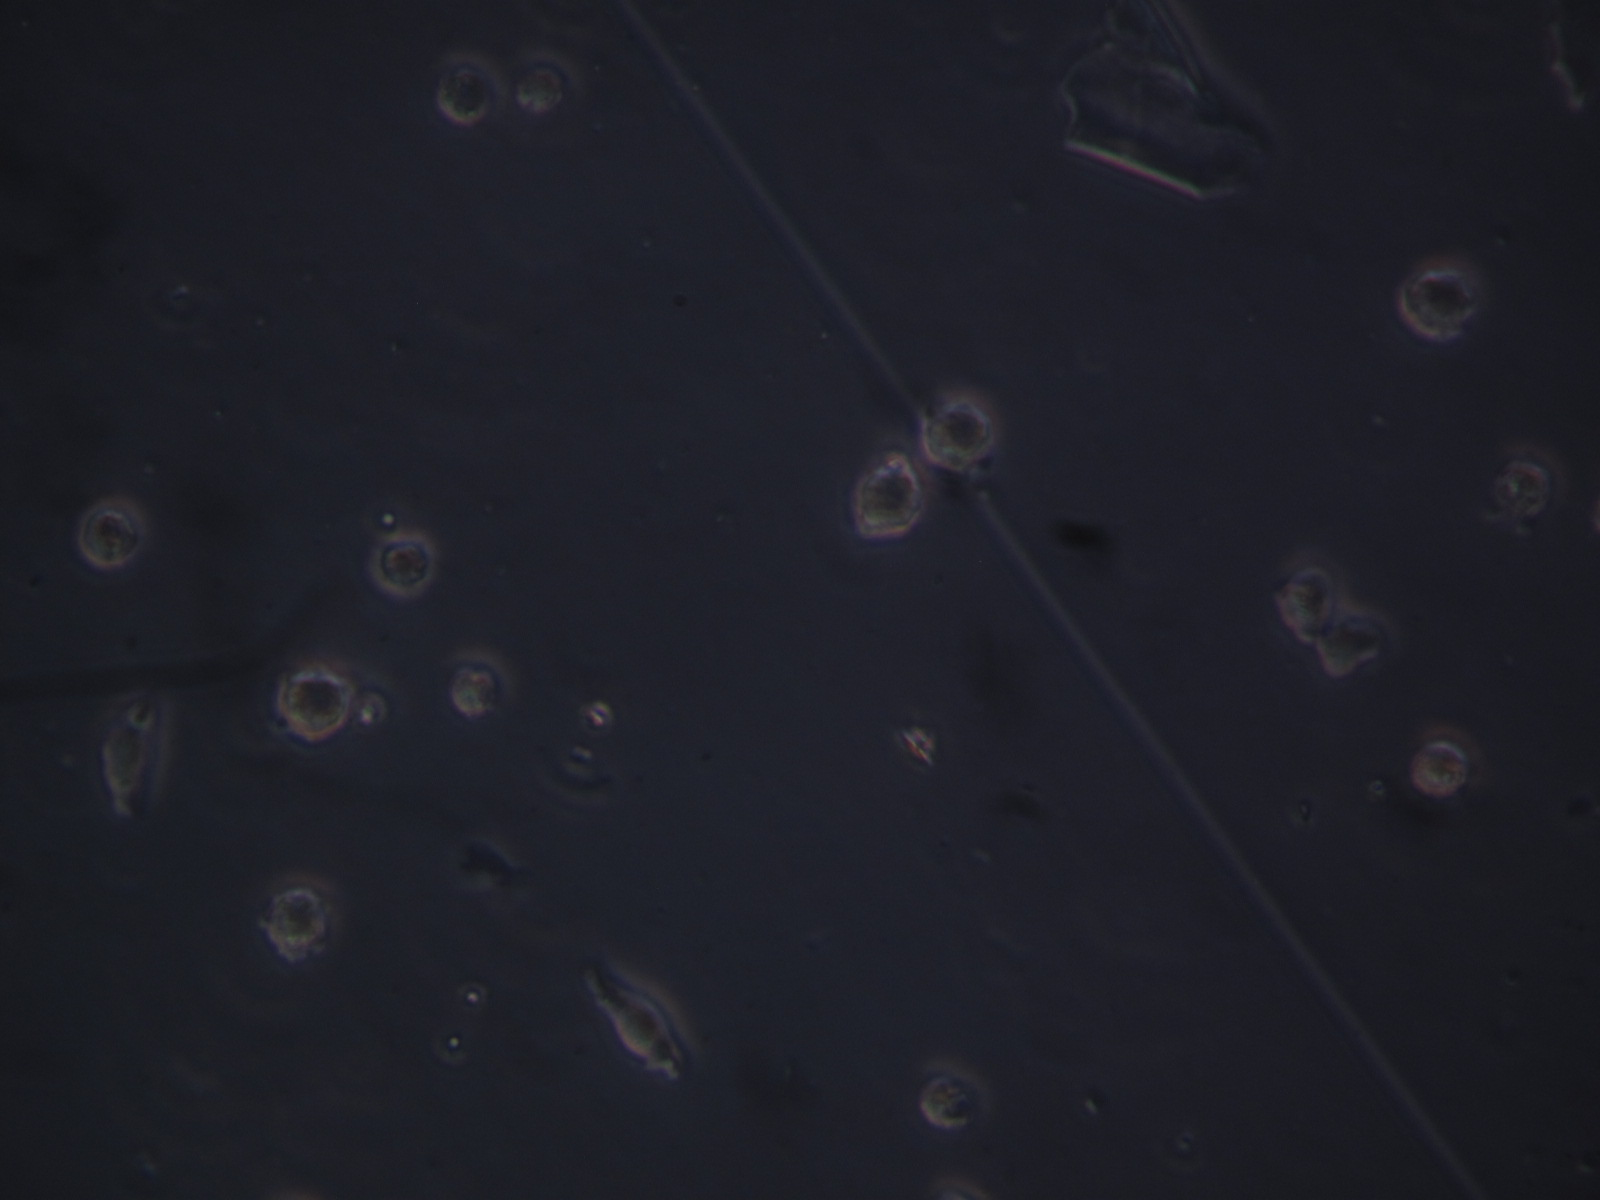hemo: (852, 453, 922, 538), (1400, 261, 1477, 339), (1488, 439, 1565, 517), (278, 666, 351, 742), (920, 1058, 993, 1133), (266, 874, 329, 959), (918, 398, 993, 469), (445, 645, 511, 721), (1409, 725, 1479, 795), (437, 53, 506, 122), (1275, 565, 1340, 634), (79, 498, 144, 567), (511, 45, 576, 115), (372, 529, 436, 596), (1322, 611, 1386, 677), (350, 676, 402, 730)
